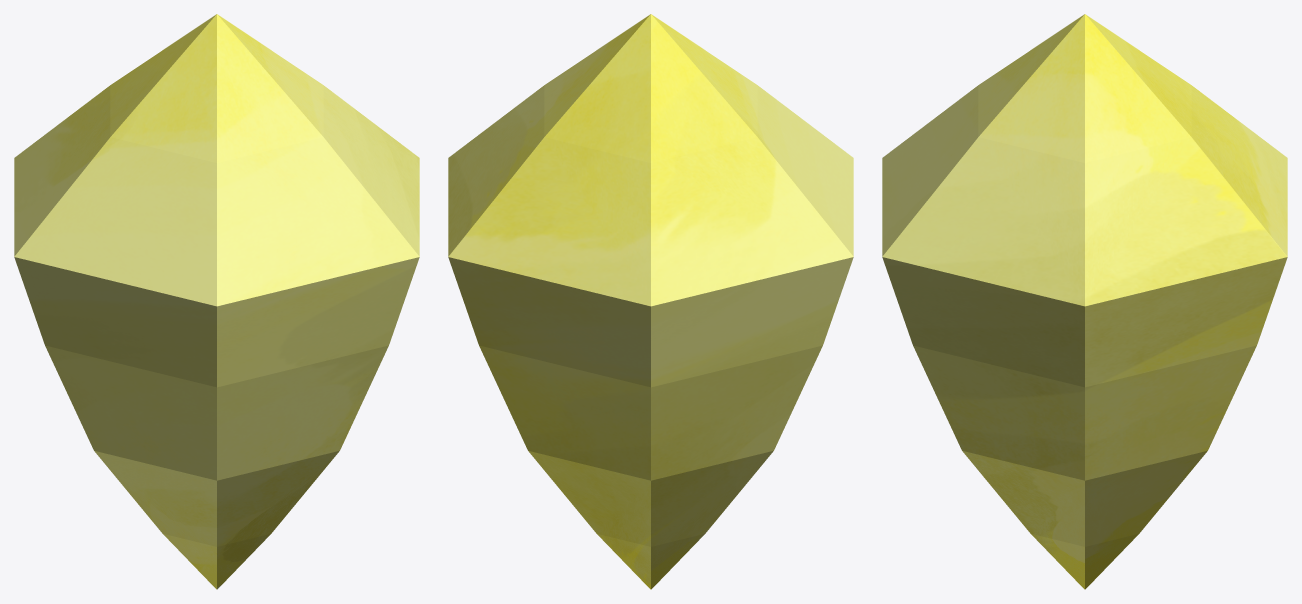
File: gem.dae
The picture shows the model from 3 angles, left to right: view 1: azimuth 30°, elevation 25°; view 2: azimuth 150°, elevation 25°; view 3: azimuth 270°, elevation 25°; orthographic projection.
Visible parts, largest first — view 1: pSphere1; view 2: pSphere1; view 3: pSphere1.
Boxes of the visible parts, bbox=[...] form: pSphere1: bbox=[14, 14, 419, 589]; pSphere1: bbox=[448, 14, 853, 589]; pSphere1: bbox=[882, 14, 1287, 589].
Bounding box in the file's own units: 5.04 × 6.84 × 4.37.
